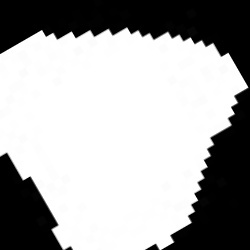spot: (2, 28, 248, 248)
